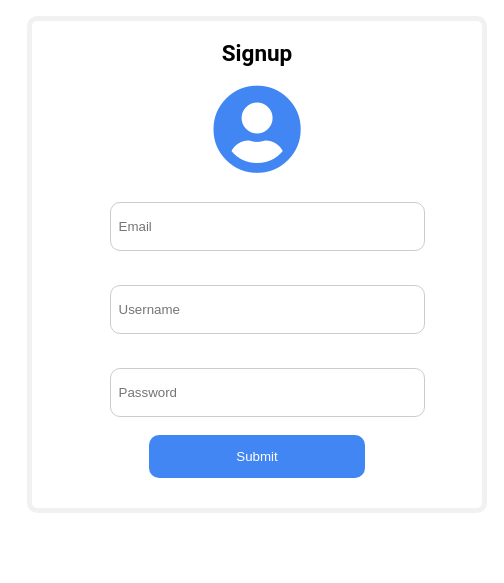
Test case: Signup Page › error message if username not provided
This screenshot has width=504, height=583.
Type "test@email.com" into the field with placeholder "Email".
click(267, 227); type("test@email.com")  # box [110,202,424,251]
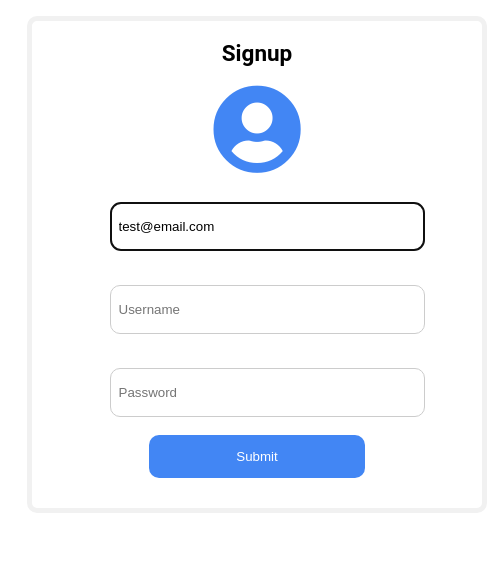
Type "TestUsername" into the field with placeholder "Username".
click(267, 310); type("TestUsername")  # box [110,285,424,334]
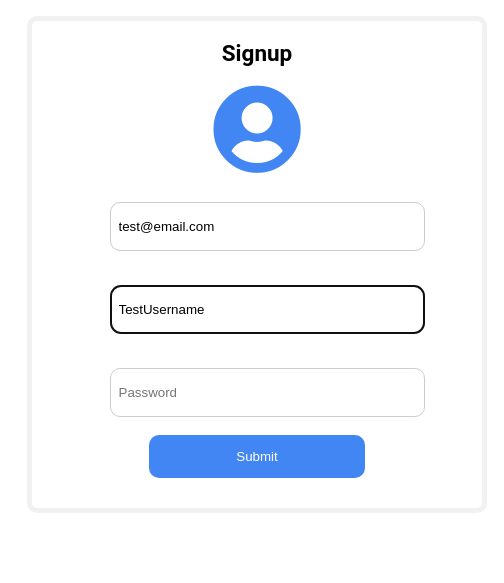
Type "1234" into the password field with placeholder "Password".
click(267, 393); type("1234")  # box [110,368,424,417]
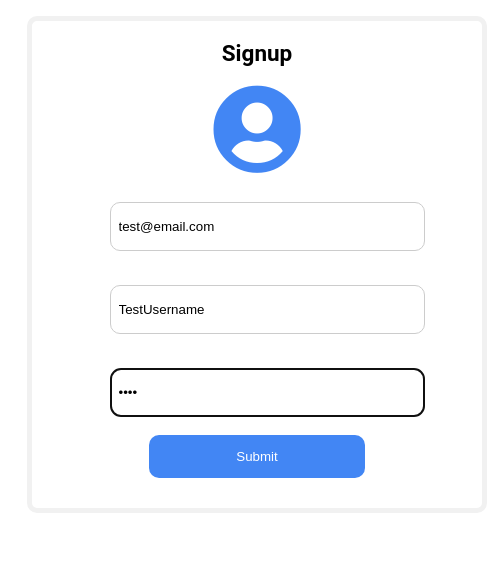
Click the button.
click(257, 457)  # box [149,435,365,478]
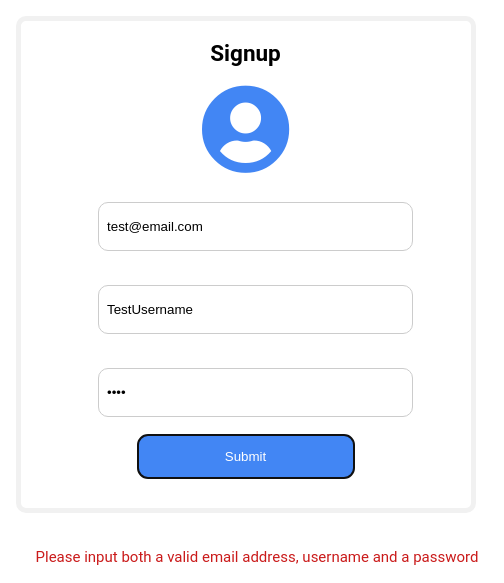
Now the text "Please input both a valid email address, username and a password" is shown, box [36,548,478,566]
